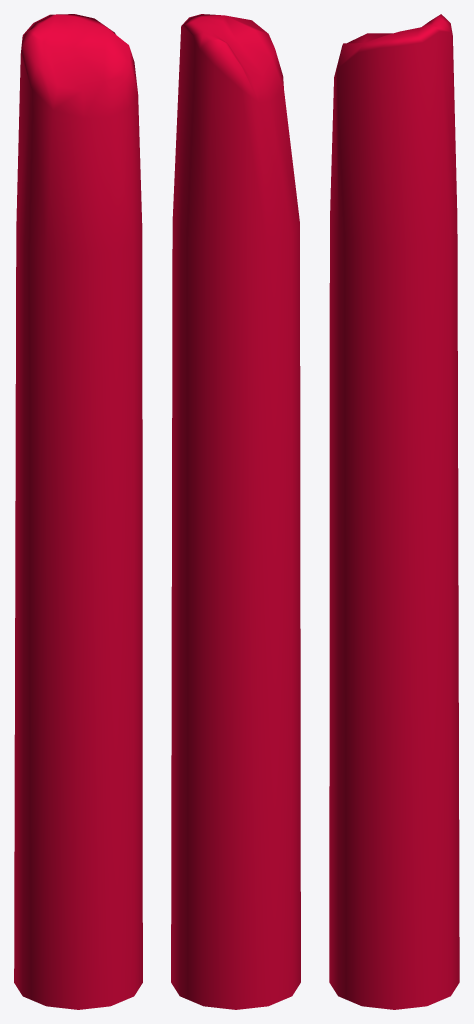
File: Pillar_Nomalized_02.fbx
3 views of the same model, side by side, from view 1: azimuth 90°, elevation 25°; view 2: azimuth 150°, elevation 25°; view 3: azimuth 270°, elevation 25° (orthographic).
Visible parts, largest first — view 1: Pillar_Nomalized_02; view 2: Pillar_Nomalized_02; view 3: Pillar_Nomalized_02.
Part boxes in pixels (bbox=[...]): Pillar_Nomalized_02: bbox=[14, 14, 142, 1009]; Pillar_Nomalized_02: bbox=[171, 14, 300, 1009]; Pillar_Nomalized_02: bbox=[329, 14, 459, 1009].
Bounding box in the file's own units: 23.57 × 192 × 23.57.
